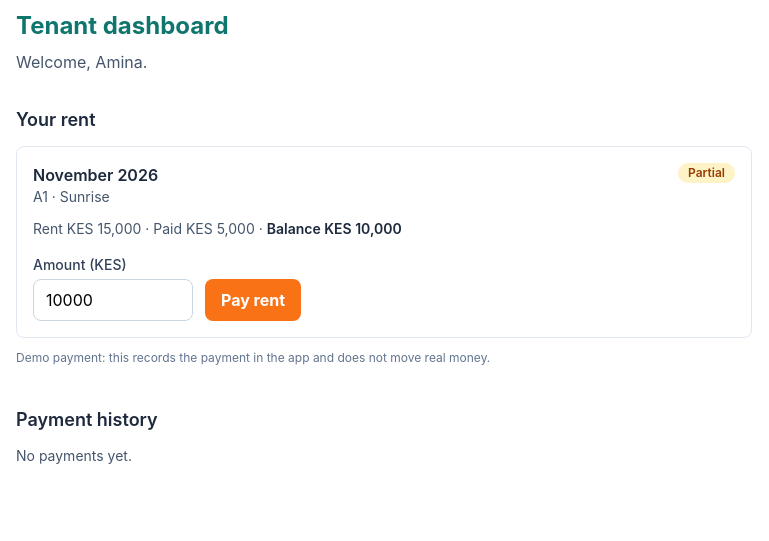
Test case: TenantDashboard page › shows an error when the payment fails
The width and height of the screenshot is (769, 541).
Click the button "Pay rent". click: (253, 300)
box: x1=205 y1=279 x2=301 y2=321
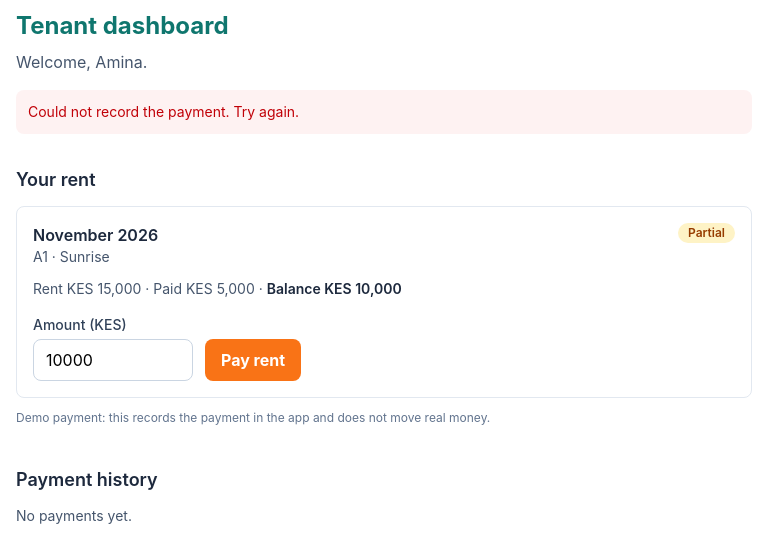
Check: the message shows "Could not record the payment", box x1=28 y1=103 x2=299 y2=120
